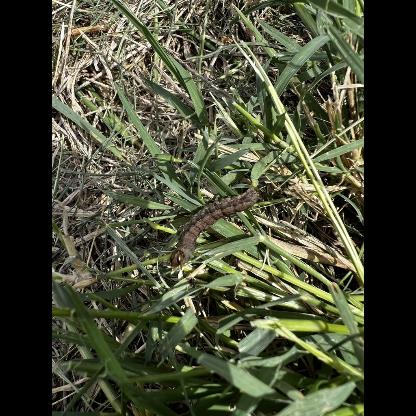Fall Armyworm Larvae: (168, 182, 262, 272)
